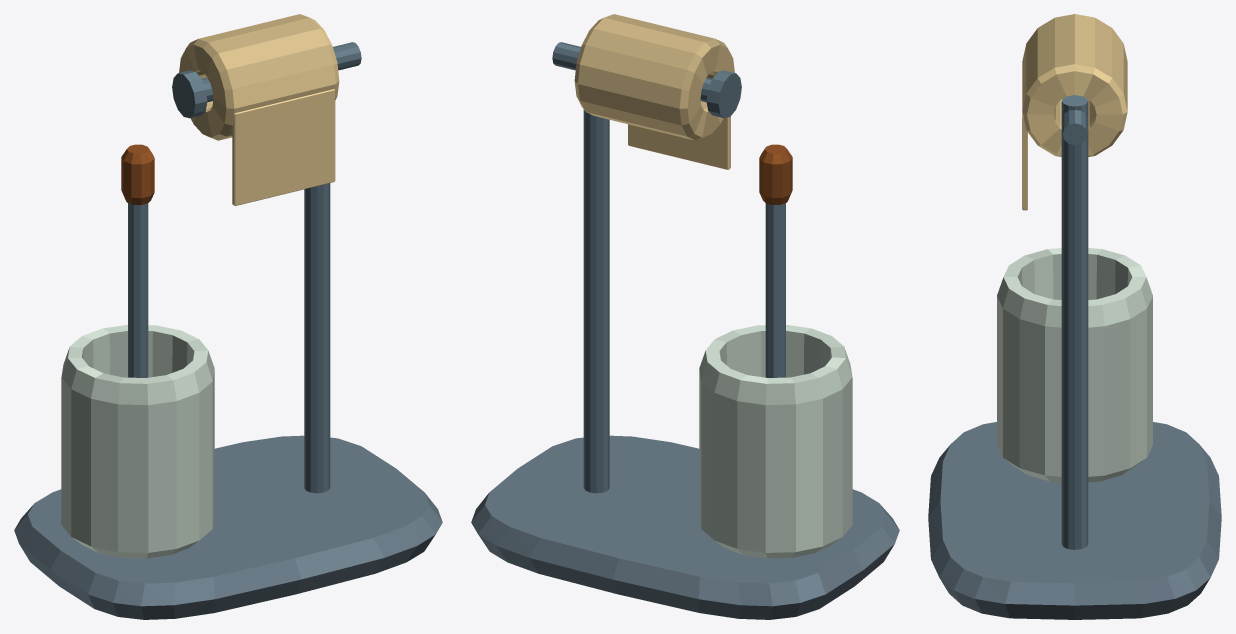
File: EB_PaperBrushStand.fbx
3 views of the same model, side by side, from view 1: azimuth 30°, elevation 25°; view 2: azimuth 150°, elevation 25°; view 3: azimuth 270°, elevation 25° (orthographic).
Parts seen in each view (by area): view 1: EB_PaperBrushStand; view 2: EB_PaperBrushStand; view 3: EB_PaperBrushStand.
Part boxes in pixels (bbox=[...]): EB_PaperBrushStand: bbox=[14, 14, 442, 619]; EB_PaperBrushStand: bbox=[471, 14, 899, 619]; EB_PaperBrushStand: bbox=[928, 14, 1221, 619].
Size of the model in its own units: 0.442 by 0.601 by 0.312.
